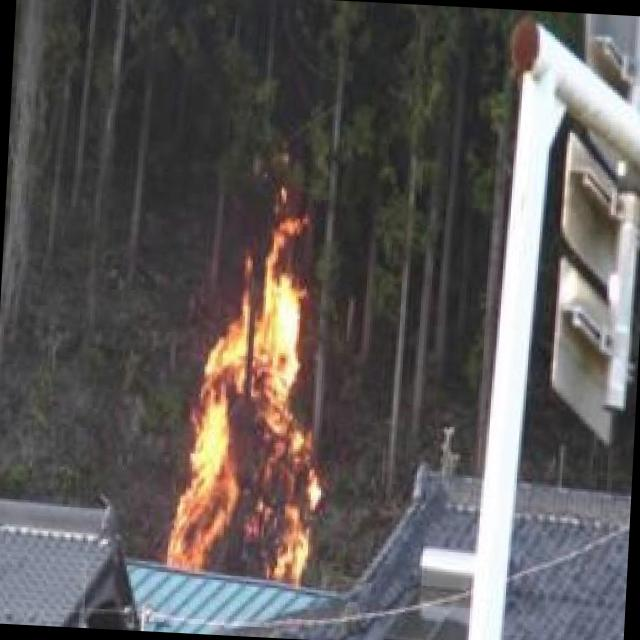Fire: (172, 206, 338, 578)
